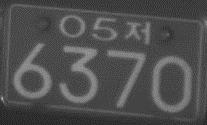0: (151, 54, 194, 114), (58, 13, 86, 38)
3: (58, 45, 99, 104)
5: (91, 15, 117, 42)
6: (11, 42, 52, 100)
7: (106, 48, 147, 108)
저: (124, 19, 151, 46)
